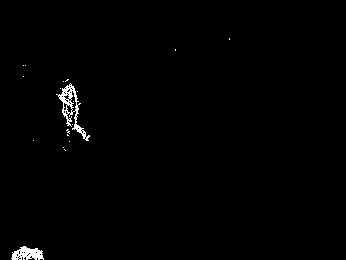person: (56, 81, 90, 148)
